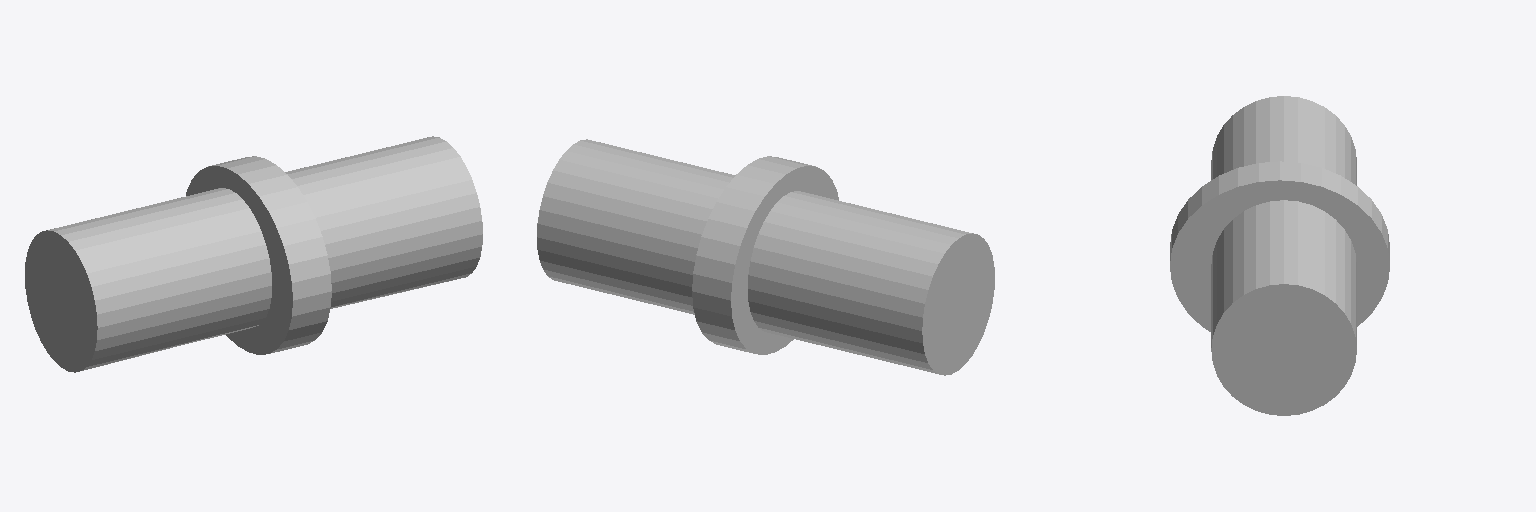
Rendered from second_cylinder_phy.obj.
3 renders of one model, left to right at view 1: azimuth 30°, elevation 25°; view 2: azimuth 150°, elevation 25°; view 3: azimuth 270°, elevation 25°, orthographic.
Visible parts, largest first — view 1: Second_cylinder_phy; view 2: Second_cylinder_phy; view 3: Second_cylinder_phy.
Boxes of the visible parts, x1=… form: Second_cylinder_phy: x1=25, y1=136, x2=482, y2=372; Second_cylinder_phy: x1=537, y1=139, x2=994, y2=375; Second_cylinder_phy: x1=1170, y1=96, x2=1389, y2=415.
Bounding box in the file's own units: 0.2744 × 0.1168 × 0.1359.